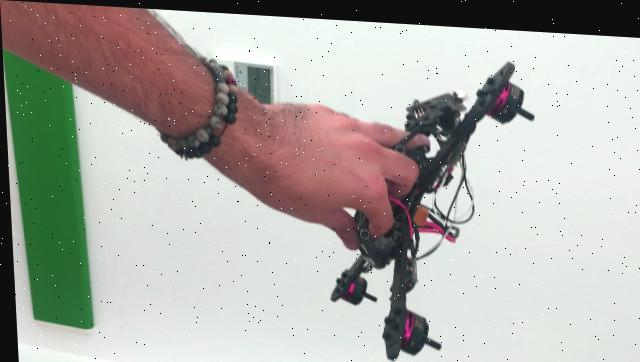drone: (316, 36, 543, 362)
